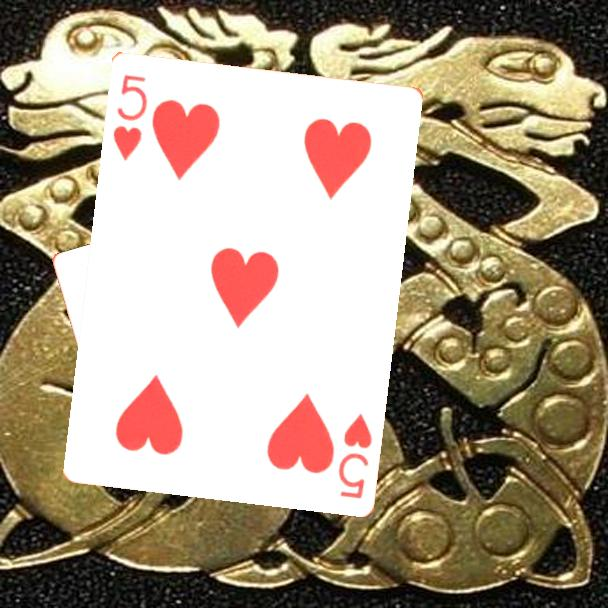h05: (109, 70, 150, 163), (334, 409, 375, 502)
